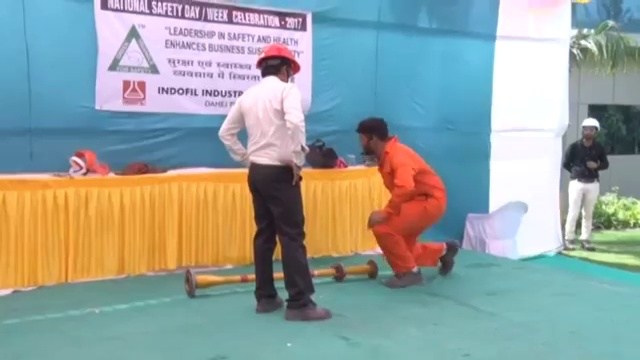helmet: (253, 42, 302, 75), (581, 116, 603, 134)
helmet_off: (355, 117, 389, 159)
helmet_on: (253, 42, 302, 87), (577, 115, 602, 148)
person: (216, 41, 333, 318), (352, 116, 460, 288), (562, 116, 610, 252)
